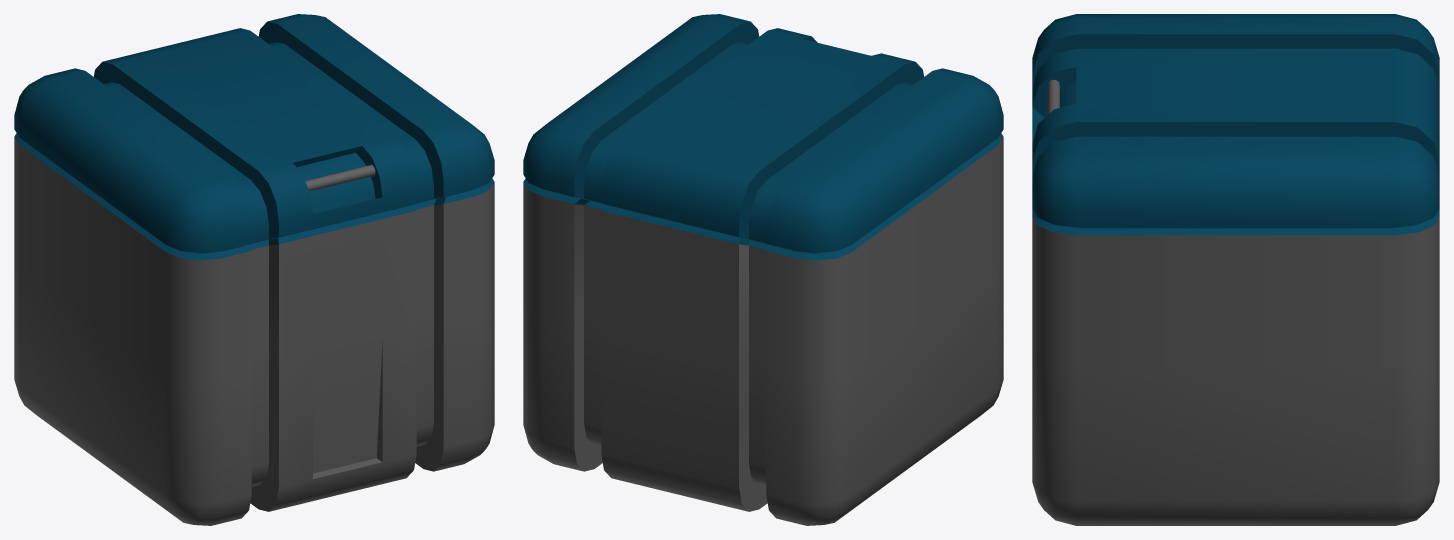
The picture shows the model from 3 angles, left to right: view 1: azimuth 30°, elevation 25°; view 2: azimuth 150°, elevation 25°; view 3: azimuth 270°, elevation 25°; orthographic projection. The views are drawn at different scales.
Parts seen in each view (by area): view 1: box_lo; view 2: box_lo; view 3: box_lo.
Part boxes in pixels (x1,y1,x2,y2): box_lo: [14, 14, 494, 525]; box_lo: [523, 14, 1003, 525]; box_lo: [1032, 14, 1439, 525].
Bounding box in the file's own units: 200 × 200 × 200.
